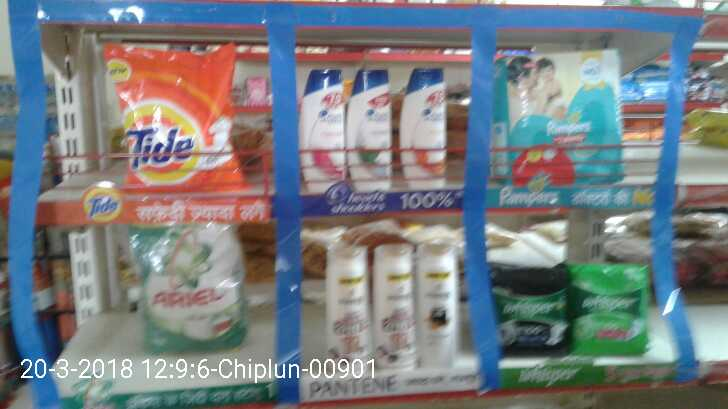beauty: (356, 245, 418, 373), (292, 72, 349, 190), (344, 73, 397, 190), (417, 235, 462, 367), (398, 69, 451, 180), (331, 248, 369, 363)
home: (100, 45, 241, 186), (129, 223, 252, 350)
pharmacy: (505, 49, 624, 180), (567, 260, 654, 354), (489, 269, 566, 361)
